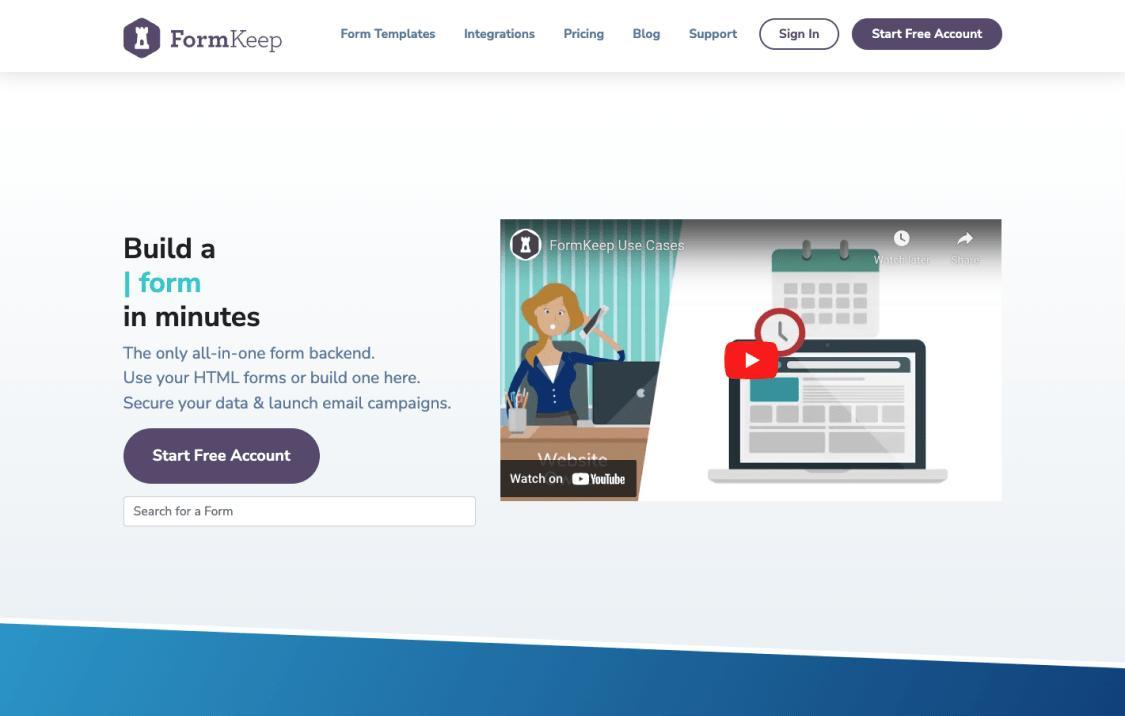button: (125, 428, 325, 487), (852, 18, 1004, 53), (759, 18, 842, 54)
input: (120, 496, 475, 528)
label: (332, 22, 447, 47), (171, 30, 287, 54), (462, 23, 538, 43), (557, 22, 612, 46), (686, 23, 741, 45), (626, 26, 665, 48)
